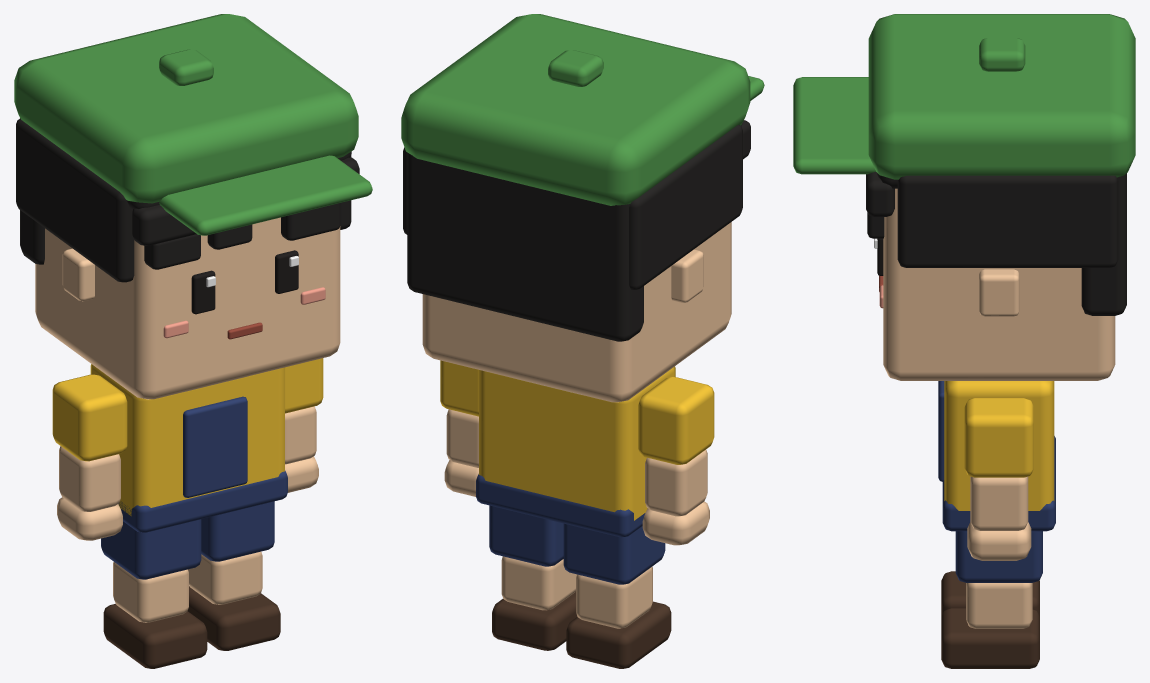
File: character.glb
The picture shows the model from 3 angles, left to right: view 1: azimuth 30°, elevation 25°; view 2: azimuth 150°, elevation 25°; view 3: azimuth 270°, elevation 25°; orthographic projection. The views are drawn at different scales.
Visible parts, largest first — view 1: CapMesh, HeadMesh, HairMesh, BodyShirt, LegLMesh, LegRMesh, BodyDetail, ArmLSleeve, ArmLHand, ArmRHand, ArmRSleeve; view 2: CapMesh, HairMesh, HeadMesh, BodyShirt, LegLMesh, LegRMesh, ArmLSleeve, ArmLHand, BodyDetail, ArmRHand, ArmRSleeve; view 3: CapMesh, HeadMesh, HairMesh, LegRMesh, BodyShirt, ArmRSleeve, ArmRHand, BodyDetail, LegLMesh.
Boxes of the visible parts, left/top/right/bottom form: CapMesh: left=14, top=14, right=372, bottom=235; HeadMesh: left=35, top=217, right=340, bottom=399; HairMesh: left=16, top=118, right=359, bottom=282; BodyShirt: left=90, top=364, right=284, bottom=516; LegLMesh: left=101, top=519, right=207, bottom=668; LegRMesh: left=187, top=501, right=280, bottom=650; BodyDetail: left=118, top=381, right=287, bottom=532; ArmLSleeve: left=52, top=374, right=127, bottom=461; ArmLHand: left=57, top=446, right=122, bottom=540; ArmRHand: left=285, top=406, right=318, bottom=492; ArmRSleeve: left=285, top=358, right=323, bottom=413; CapMesh: left=401, top=14, right=764, bottom=205; HairMesh: left=403, top=120, right=750, bottom=341; HeadMesh: left=422, top=222, right=731, bottom=402; BodyShirt: left=479, top=366, right=675, bottom=520; LegLMesh: left=563, top=523, right=671, bottom=668; LegRMesh: left=489, top=505, right=577, bottom=650; ArmLSleeve: left=638, top=377, right=714, bottom=464; ArmLHand: left=642, top=449, right=709, bottom=545; BodyDetail: left=476, top=385, right=645, bottom=537; ArmRHand: left=444, top=409, right=478, bottom=496; ArmRSleeve: left=440, top=360, right=478, bottom=416; CapMesh: left=793, top=14, right=1135, bottom=179; HeadMesh: left=874, top=188, right=1115, bottom=380; HairMesh: left=866, top=172, right=1126, bottom=315; LegRMesh: left=941, top=531, right=1042, bottom=668; BodyShirt: left=944, top=381, right=1054, bottom=510; ArmRSleeve: left=964, top=398, right=1033, bottom=477; ArmRHand: left=967, top=476, right=1031, bottom=560; BodyDetail: left=938, top=381, right=1055, bottom=531; LegLMesh: left=941, top=571, right=1039, bottom=616.
Size of the model in its own units: 1 by 2.26 by 1.18.
